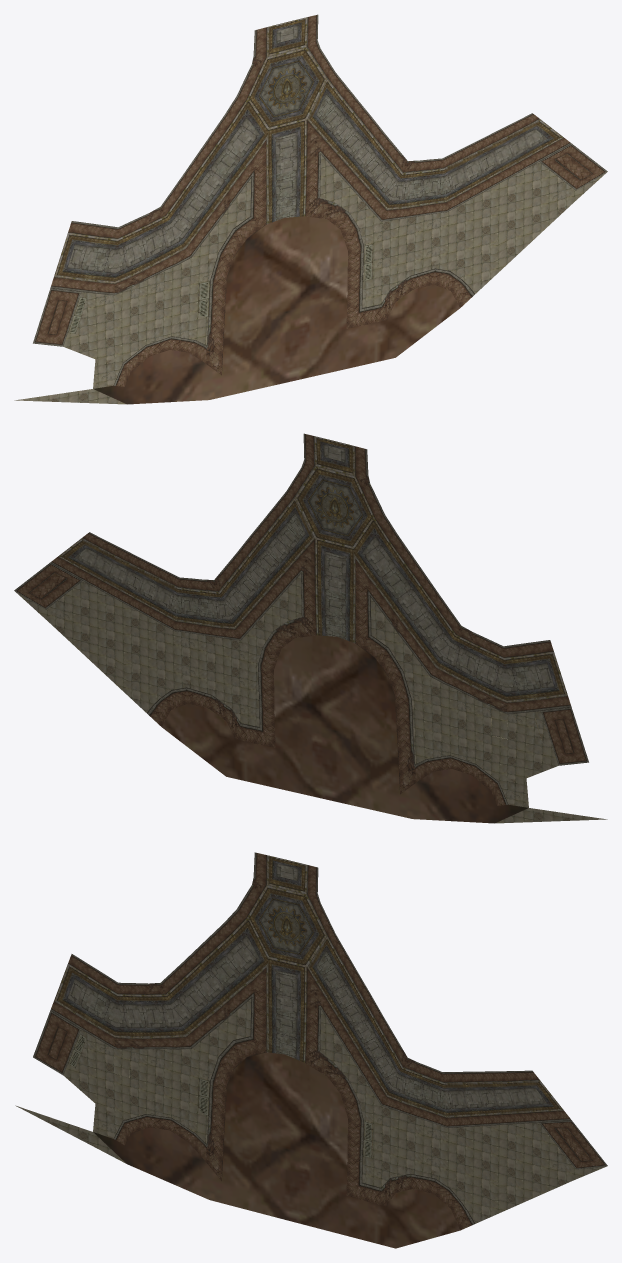
File: huodong_01_dimian.obj
3 renders of one model, top to bottom at view 1: azimuth 30°, elevation 25°; view 2: azimuth 150°, elevation 25°; view 3: azimuth 330°, elevation 25°, orthographic.
Parts seen in each view (by area): view 1: DrawCall_0090; view 2: DrawCall_0090; view 3: DrawCall_0090.
Boxes of the visible parts, x1,y1,x2,y2 form: DrawCall_0090: [14, 14, 607, 404]; DrawCall_0090: [14, 433, 607, 823]; DrawCall_0090: [15, 852, 607, 1248].
Bounding box in the file's own units: 3642 × 2123 × 6.85.
7 materials, 7 textured.
